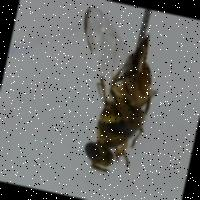Oriental-fruit-fly: (45, 4, 182, 184)
